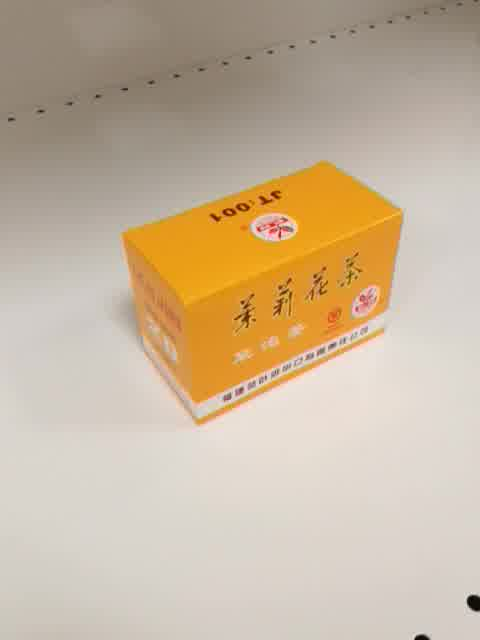jasminetea: (119, 160, 404, 427)
